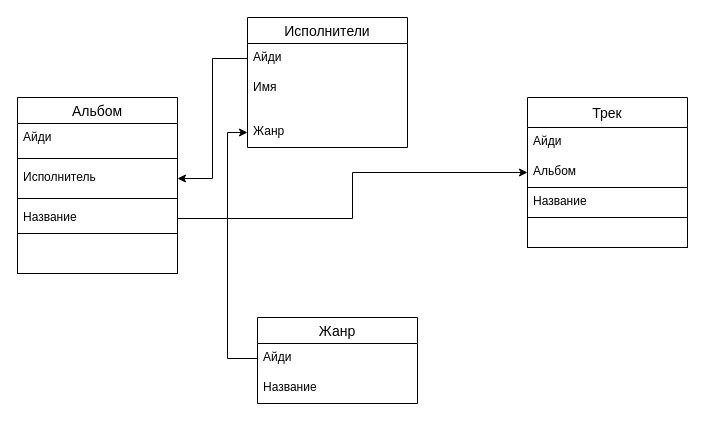
The diagram is 705 pixels wide and 424 high, and some of its shapes have lost their labels. Here are the shapes that lost their labels. From the top down, the centre of each, then its label:
At point 607,232: "Длительность".
At point 97,253: "Год выпуска".
